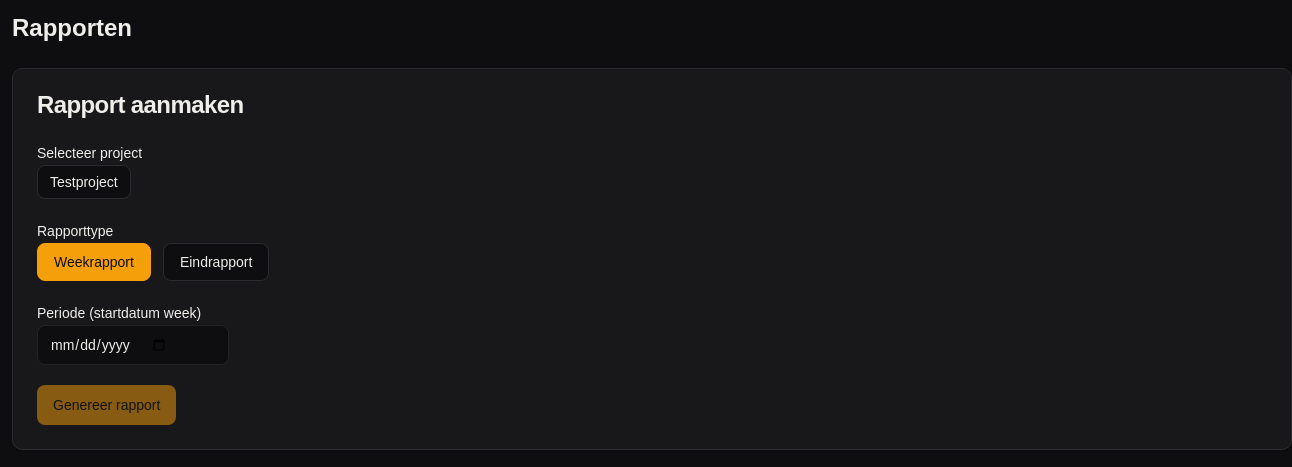
Test: ReportBuilderPage — generate report › shows loading state while generating
This screenshot has width=1292, height=467.
Click the button "Testproject".
click(84, 182)  # box [37, 165, 131, 199]
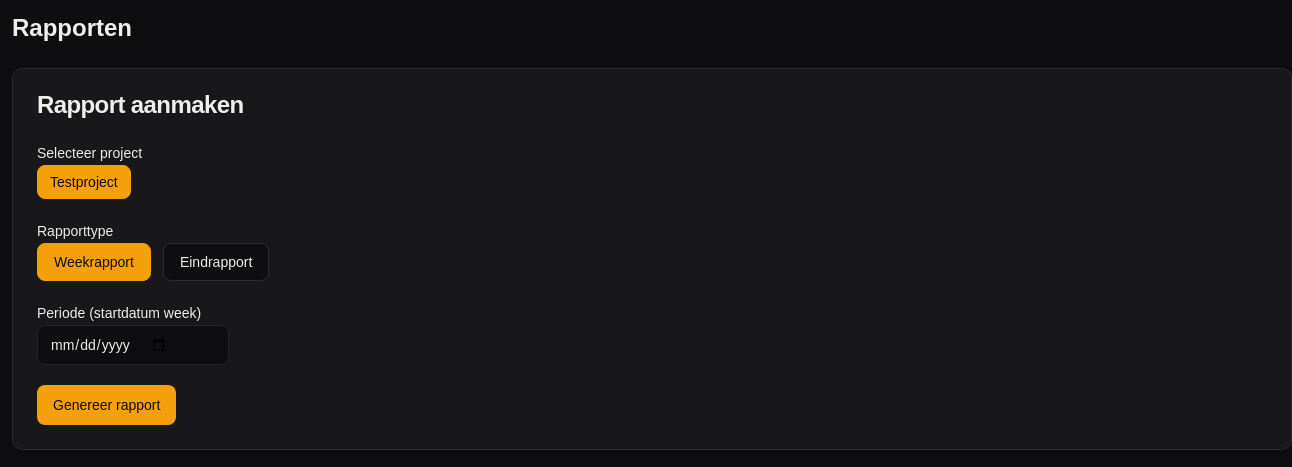
Click the button "Genereer rapport".
click(107, 405)  # box [37, 385, 176, 425]
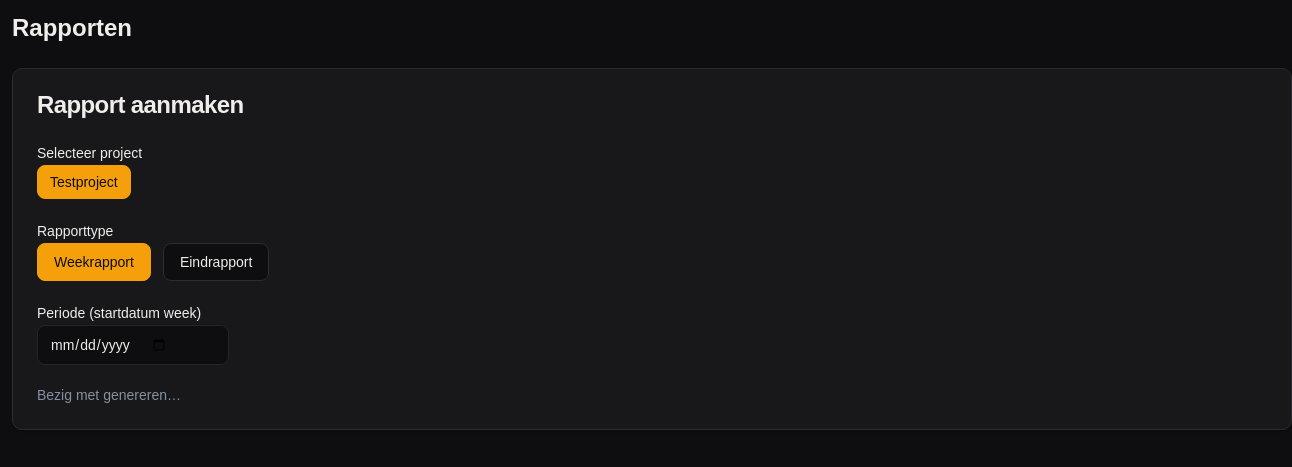
Expected: the text "Bezig met genereren…" is shown, [37, 387, 181, 403]
